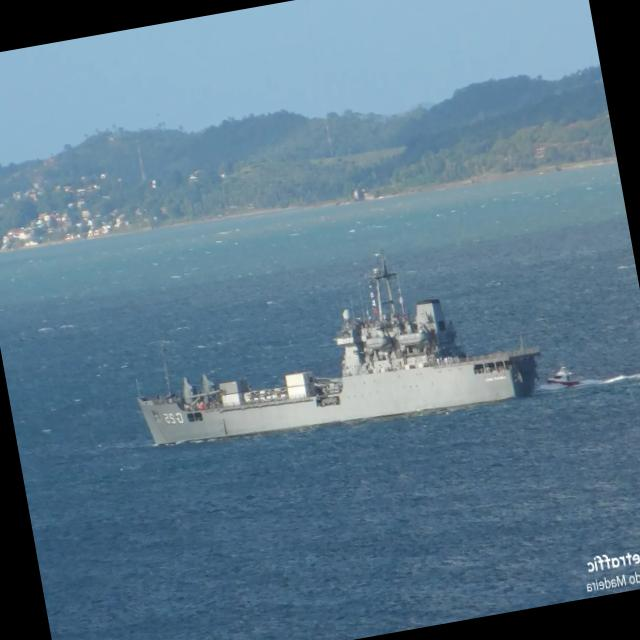Military: (137, 254, 540, 444)
